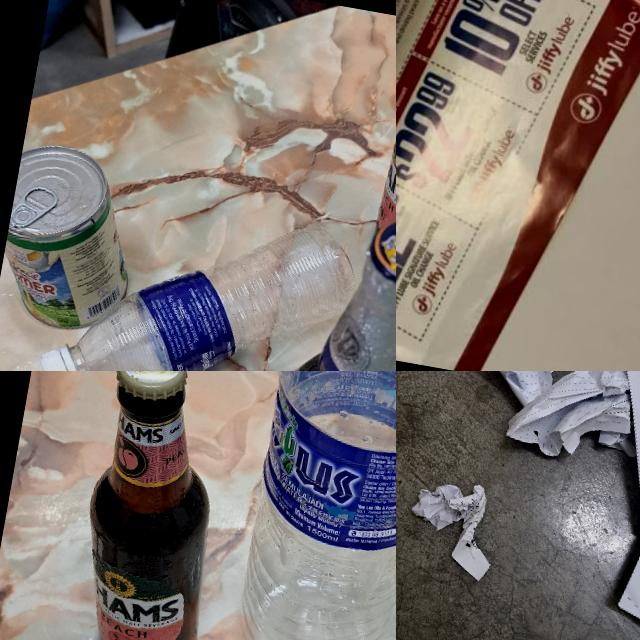aba de lata: (8, 180, 58, 236)
garrafa de vidro: (61, 371, 245, 640), (241, 200, 396, 371)
garrafa plástica: (64, 184, 362, 371), (225, 371, 396, 640)
lata: (0, 138, 150, 339)
papel: (396, 0, 640, 371), (501, 371, 640, 470), (564, 371, 640, 552), (400, 473, 502, 582), (430, 371, 634, 420)
tampa plástica: (33, 346, 86, 371)
